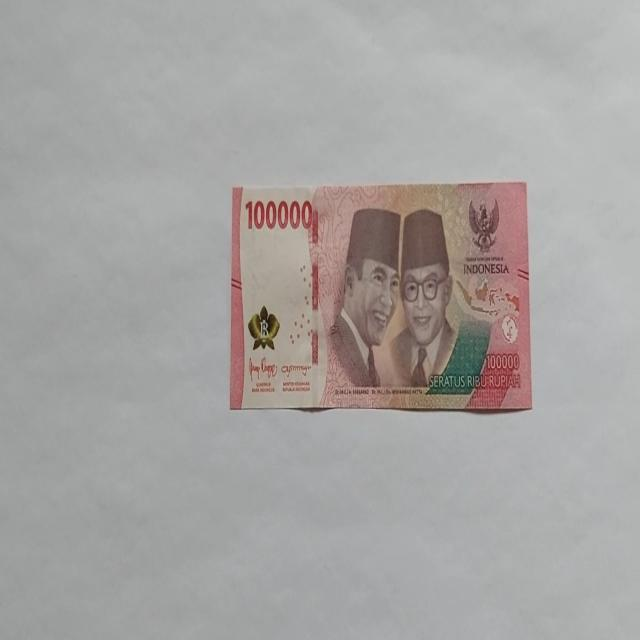seratus ribu rupiah: (229, 180, 532, 414)
